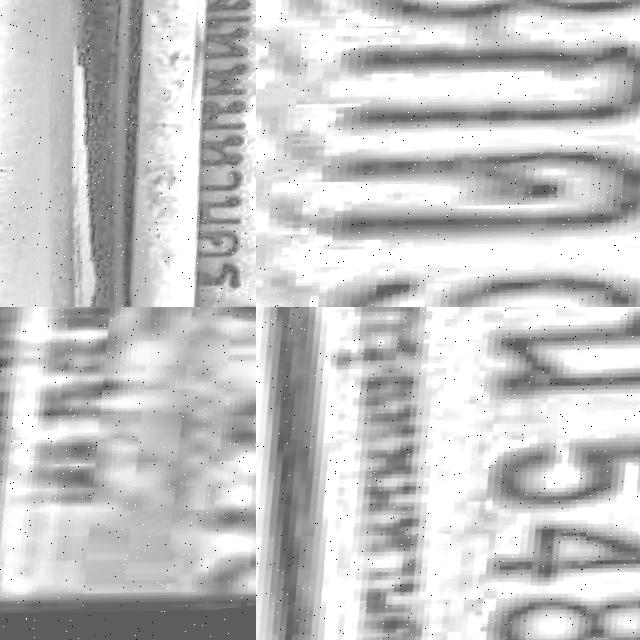license-plate: (256, 307, 640, 640), (256, 0, 640, 307), (0, 307, 256, 637), (101, 0, 256, 307)
